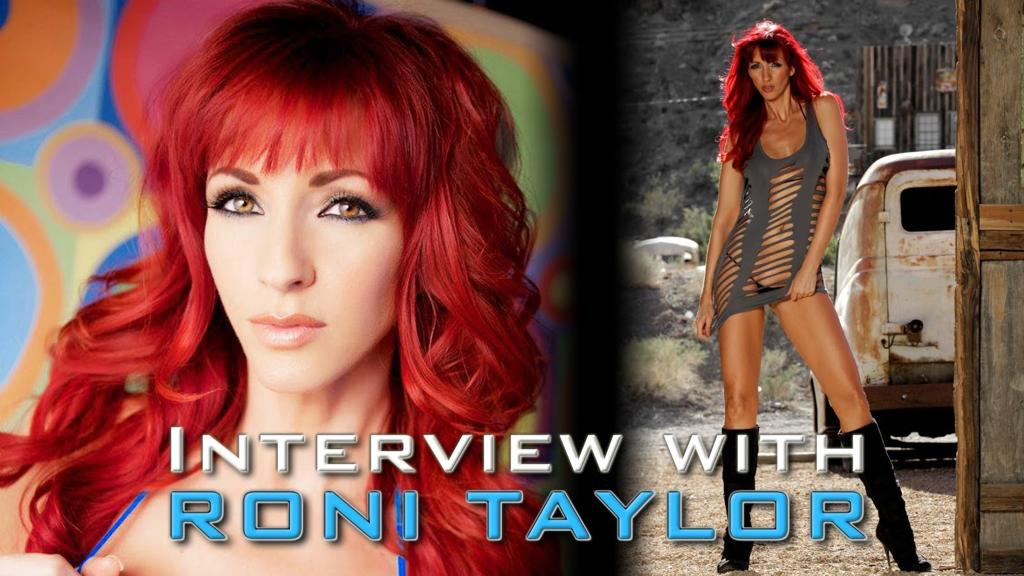face: (204, 145, 402, 392), (748, 52, 789, 99)
